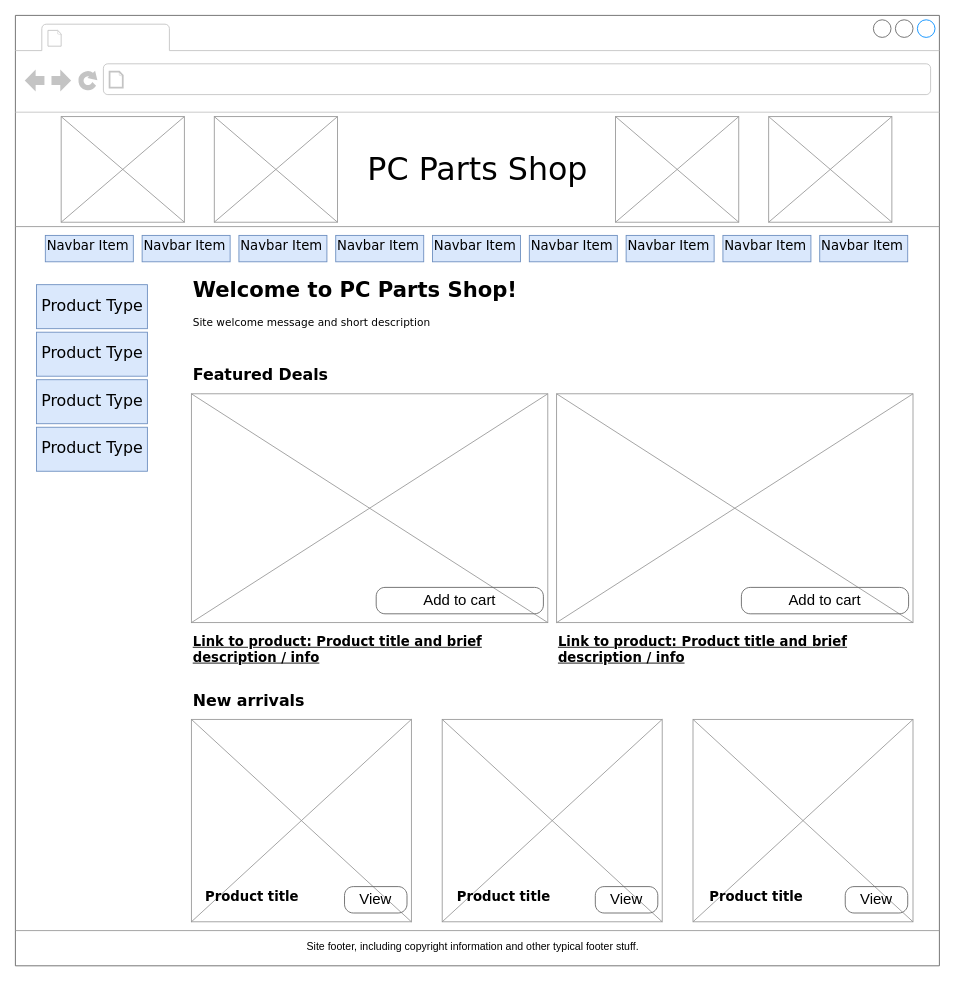
The diagram is 955 pixels wide and 983 high, and some of its shapes have lost their labels. Each missing label, with the centre of its shape:
"https://www.pc-parts-shop.com/shop/" goes at point (239, 79).
"PC Parts Sh..." goes at point (116, 37).
